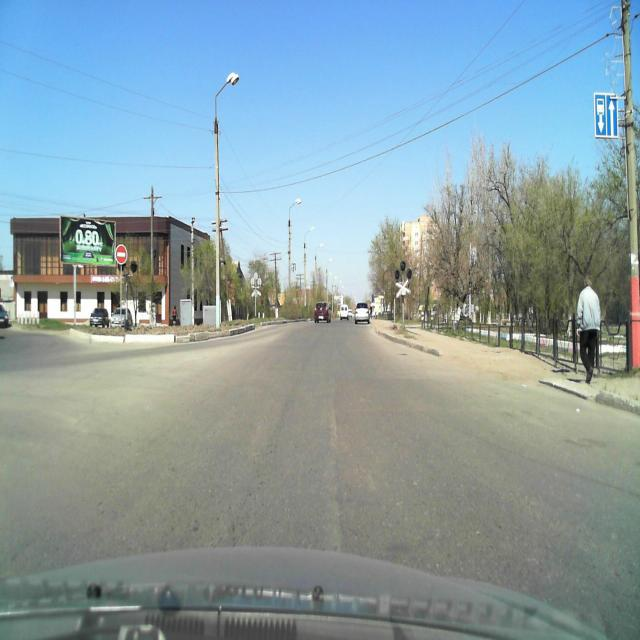road sign: (594, 90, 618, 138)
